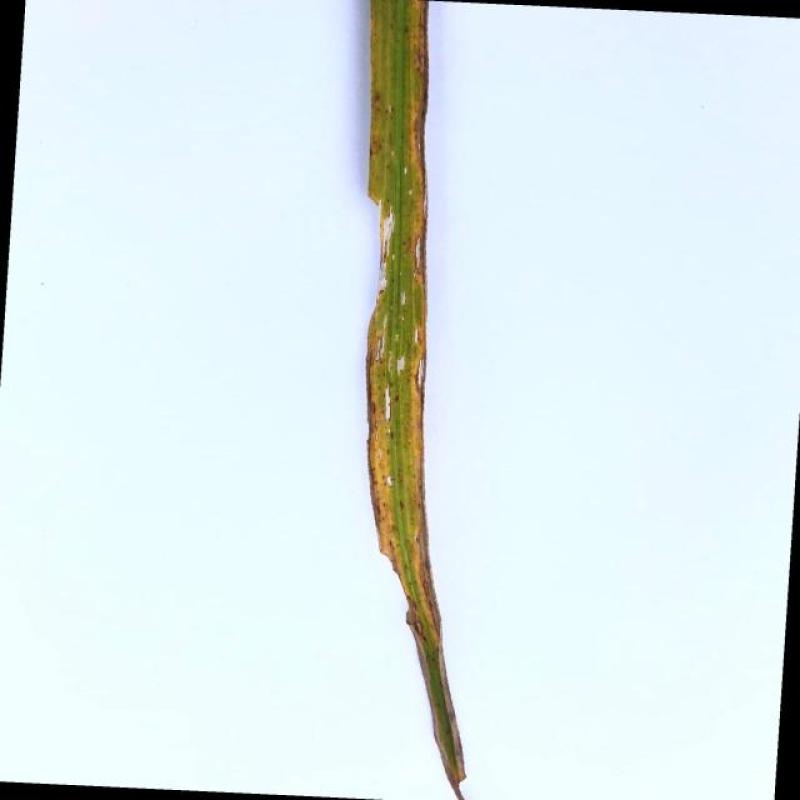Rice Tungro: (403, 2, 428, 606), (365, 321, 396, 579)
